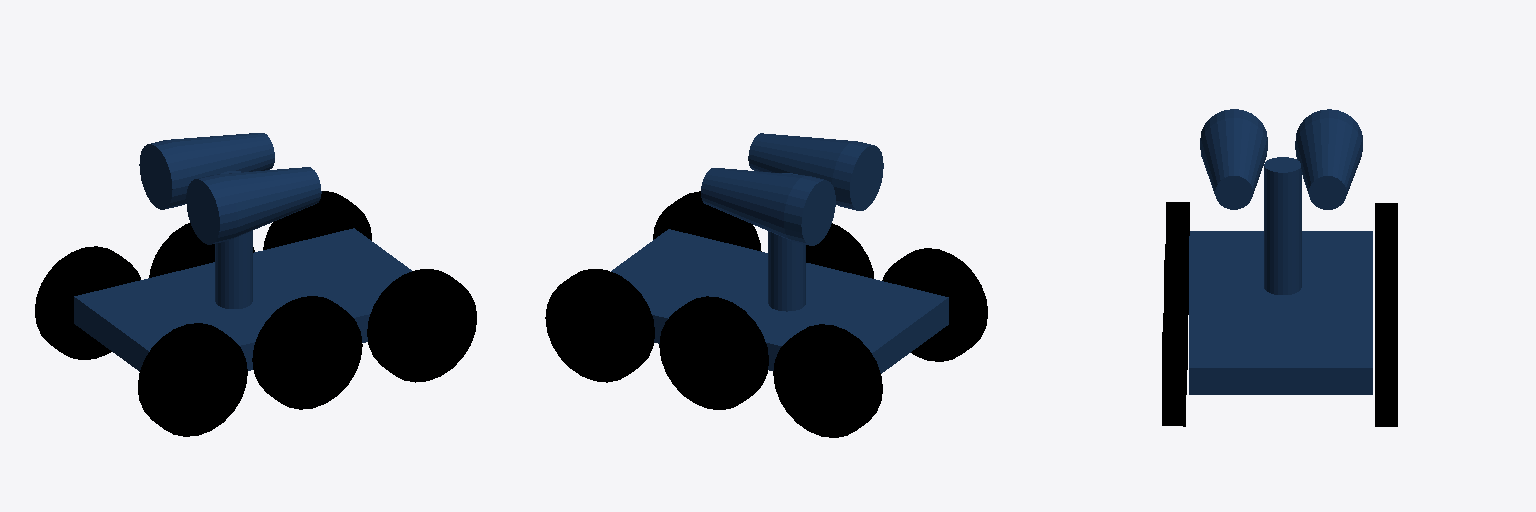
The model's file is rover.obj.
3 views of the same model, side by side, from view 1: azimuth 30°, elevation 25°; view 2: azimuth 150°, elevation 25°; view 3: azimuth 270°, elevation 25° (orthographic).
Parts seen in each view (by area): view 1: body, wheel (6), wheel (4), wheel (5), camera, camera (2), wheel (3), wheel, Mesh, wheel (2); view 2: body, wheel (2), wheel (3), wheel, camera (2), camera, wheel (5), wheel (4), Mesh, wheel (6); view 3: body, camera, camera (2), Mesh, wheel (4), wheel, wheel (5), wheel (6), wheel (2), wheel (3).
Part boxes in pixels (bbox=[...]): body: bbox=[74, 228, 411, 371]; wheel (6): bbox=[252, 296, 362, 409]; wheel (4): bbox=[367, 269, 476, 382]; wheel (5): bbox=[138, 323, 247, 436]; camera: bbox=[186, 167, 321, 244]; camera (2): bbox=[139, 133, 274, 209]; wheel (3): bbox=[35, 246, 140, 359]; wheel: bbox=[263, 191, 371, 249]; Mesh: bbox=[215, 171, 252, 308]; wheel (2): bbox=[149, 223, 254, 277]; body: bbox=[611, 229, 948, 373]; wheel (2): bbox=[659, 296, 768, 409]; wheel (3): bbox=[773, 324, 882, 437]; wheel: bbox=[545, 269, 654, 382]; camera (2): bbox=[701, 168, 835, 245]; camera: bbox=[748, 133, 883, 210]; wheel (5): bbox=[882, 248, 987, 361]; wheel (4): bbox=[653, 191, 761, 251]; Mesh: bbox=[768, 173, 805, 311]; wheel (6): bbox=[806, 223, 873, 278]; body: bbox=[1189, 231, 1372, 394]; camera: bbox=[1200, 109, 1267, 209]; camera (2): bbox=[1295, 109, 1362, 209]; Mesh: bbox=[1264, 157, 1301, 294]; wheel (4): bbox=[1162, 313, 1186, 426]; wheel: bbox=[1375, 314, 1397, 426]; wheel (5): bbox=[1165, 202, 1189, 314]; wheel (6): bbox=[1164, 258, 1187, 369]; wheel (2): bbox=[1375, 258, 1397, 313]; wheel (3): bbox=[1375, 203, 1397, 257].
Bounding box in the file's own units: 1.01 × 0.646 × 0.6277.